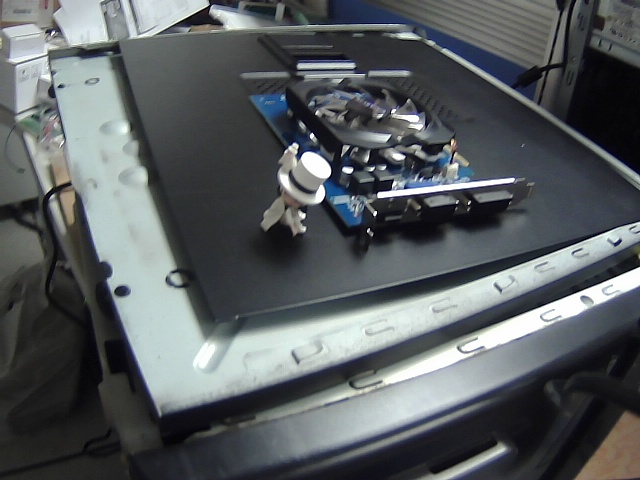lucci: (248, 138, 335, 246)
